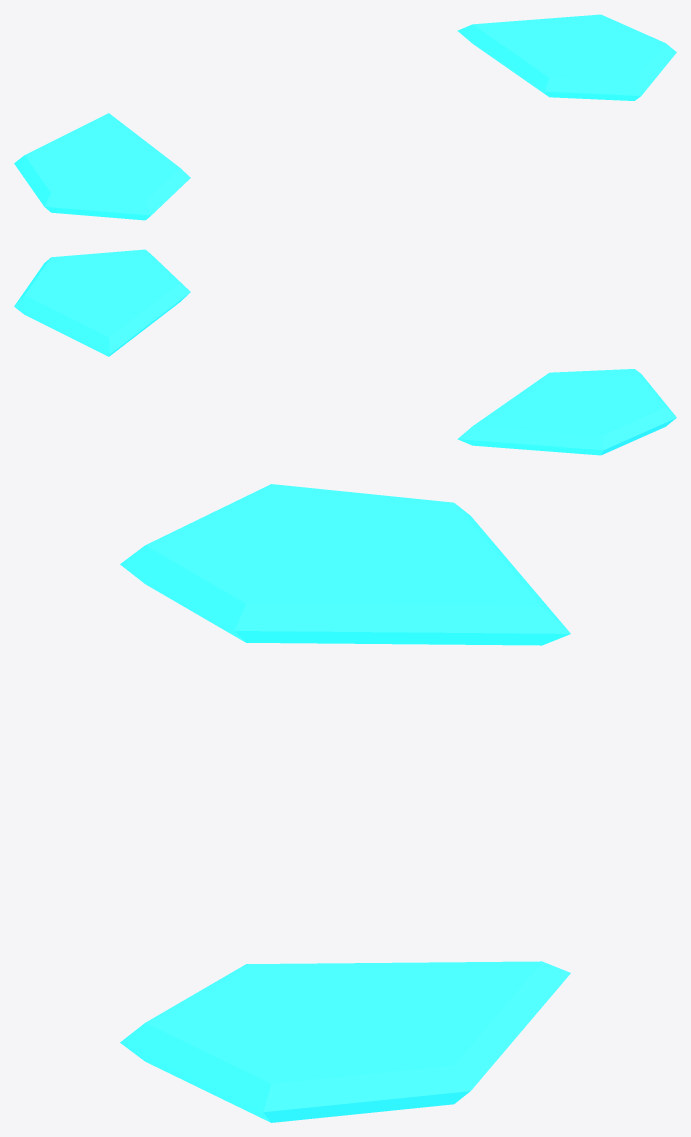
The model's file is player_upgrade_shield_burst.glb.
3 renders of one model, top to bottom at view 1: azimuth 30°, elevation 25°; view 2: azimuth 150°, elevation 25°; view 3: azimuth 270°, elevation 25°, orthographic. The views are drawn at different scales.
Parts seen in each view (by area): view 1: PLAYER UPGRADE // SHIELD PROJECTORS; view 2: PLAYER UPGRADE // SHIELD PROJECTORS; view 3: PLAYER UPGRADE // SHIELD PROJECTORS.
Part boxes in pixels (<box>): PLAYER UPGRADE // SHIELD PROJECTORS: <box>14,14,676,220</box>; PLAYER UPGRADE // SHIELD PROJECTORS: <box>14,249,676,455</box>; PLAYER UPGRADE // SHIELD PROJECTORS: <box>120,484,570,1122</box>.
Bounding box in the file's own units: 4.08 × 0.12 × 1.26.
